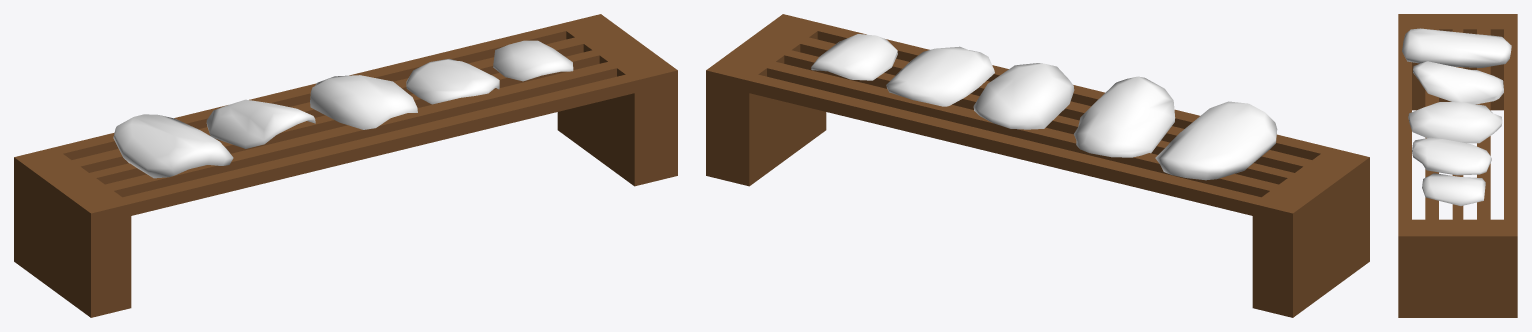
File: nail_bench.fbx
The picture shows the model from 3 angles, left to right: view 1: azimuth 30°, elevation 25°; view 2: azimuth 150°, elevation 25°; view 3: azimuth 270°, elevation 25°; orthographic projection. The views are drawn at different scales.
Parts seen in each view (by area): view 1: nail_bench, nails.001; view 2: nail_bench, nails.001; view 3: nail_bench, nails.001.
Boxes of the visible parts, x1,y1,x2,y2 form: nail_bench: (14,14,677,317); nails.001: (113,40,573,178); nail_bench: (706,14,1369,317); nails.001: (811,34,1277,180); nail_bench: (1398,14,1517,317); nails.001: (1402,28,1511,205).
Bounding box in the file's own units: 263 × 61.24 × 59.82.
